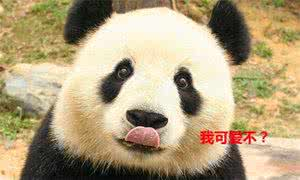panda: (17, 1, 249, 180)
